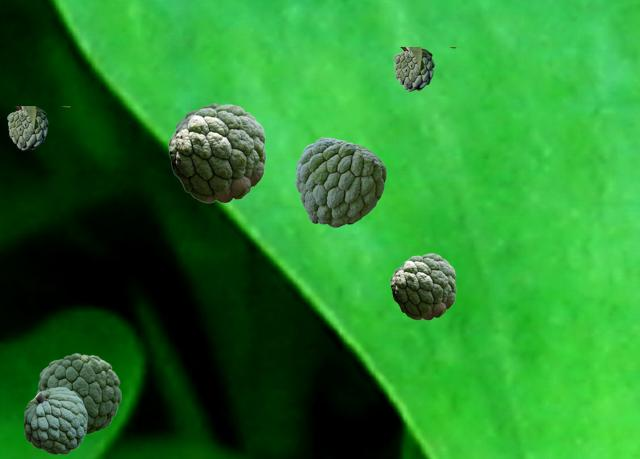atis: (168, 104, 265, 202), (295, 137, 385, 226), (36, 353, 120, 433), (390, 253, 455, 319), (24, 387, 86, 453), (7, 106, 69, 149), (393, 47, 455, 90), (175, 103, 222, 128)
